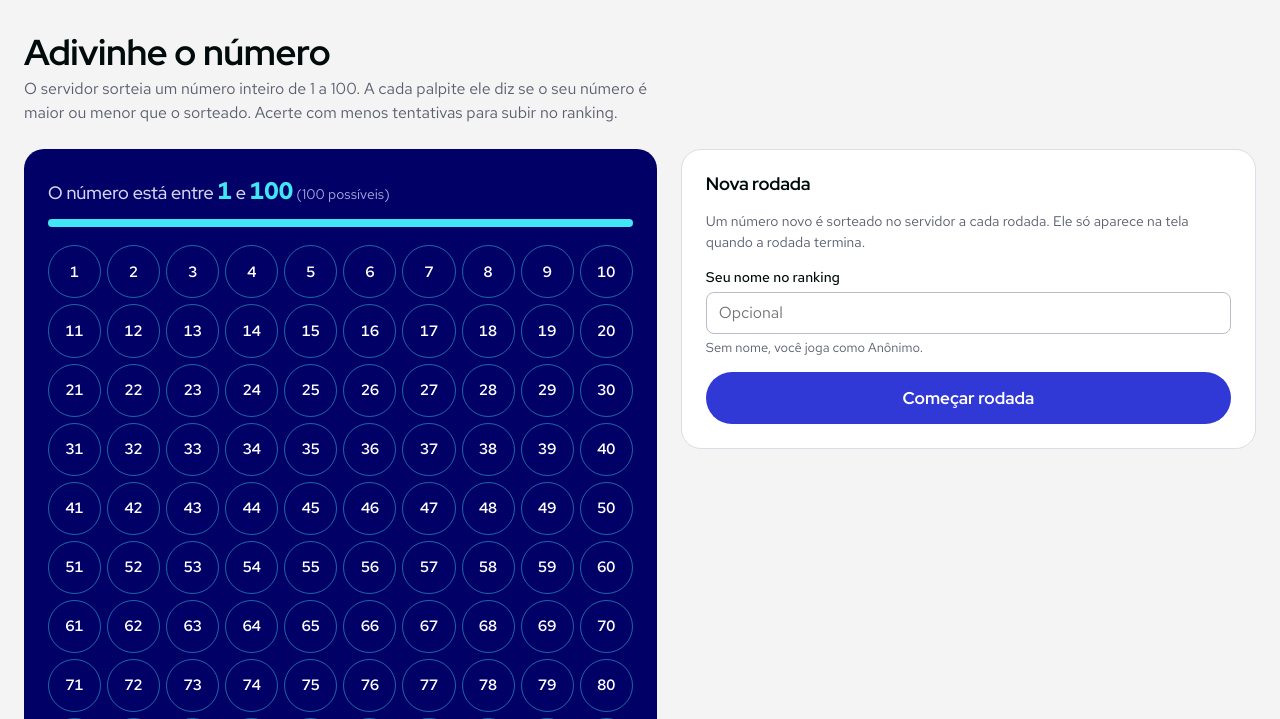
<Jogar /> (fluxo completo com a API mockada) › mostra a mensagem de regra do jogo vinda da API (422)
The width and height of the screenshot is (1280, 719).
Step 1. Click the button "Começar rodada" → (968, 398), box [706,372,1231,424]
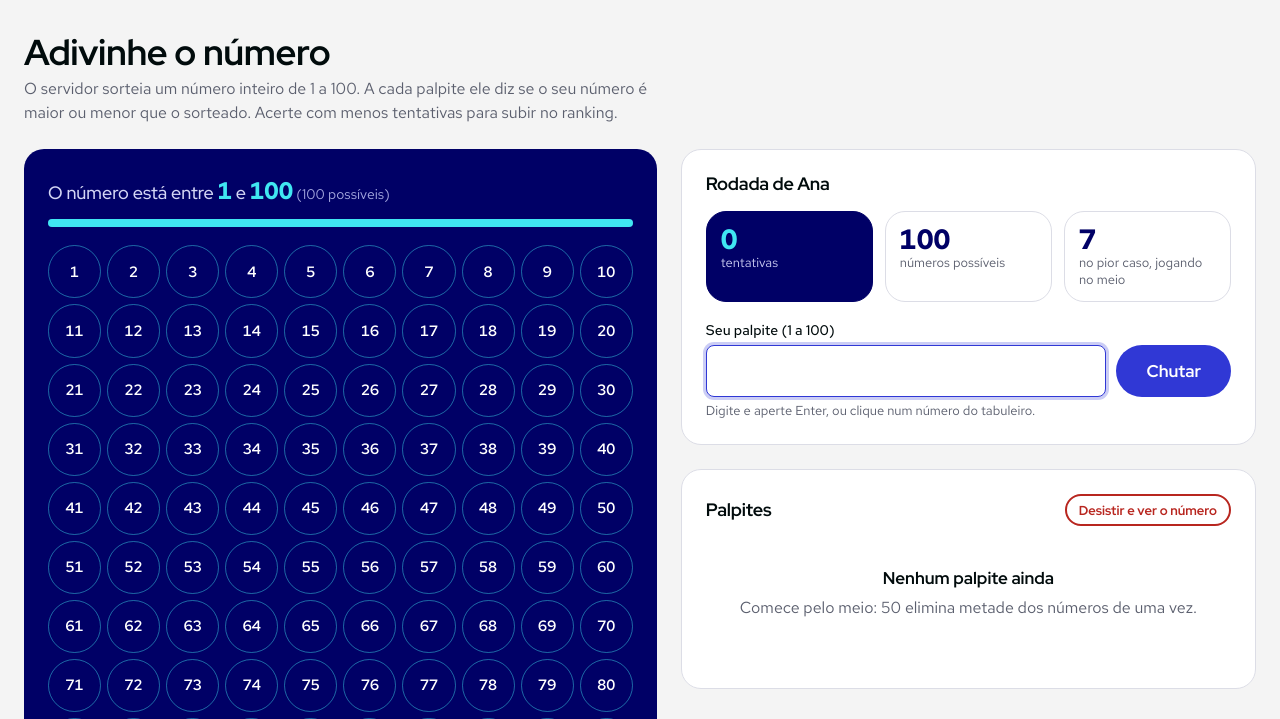
Step 2. Type "50" into the field labelled "Seu palpite (1 a 100)" → (906, 371), box [706,345,1106,397]
Then press Enter
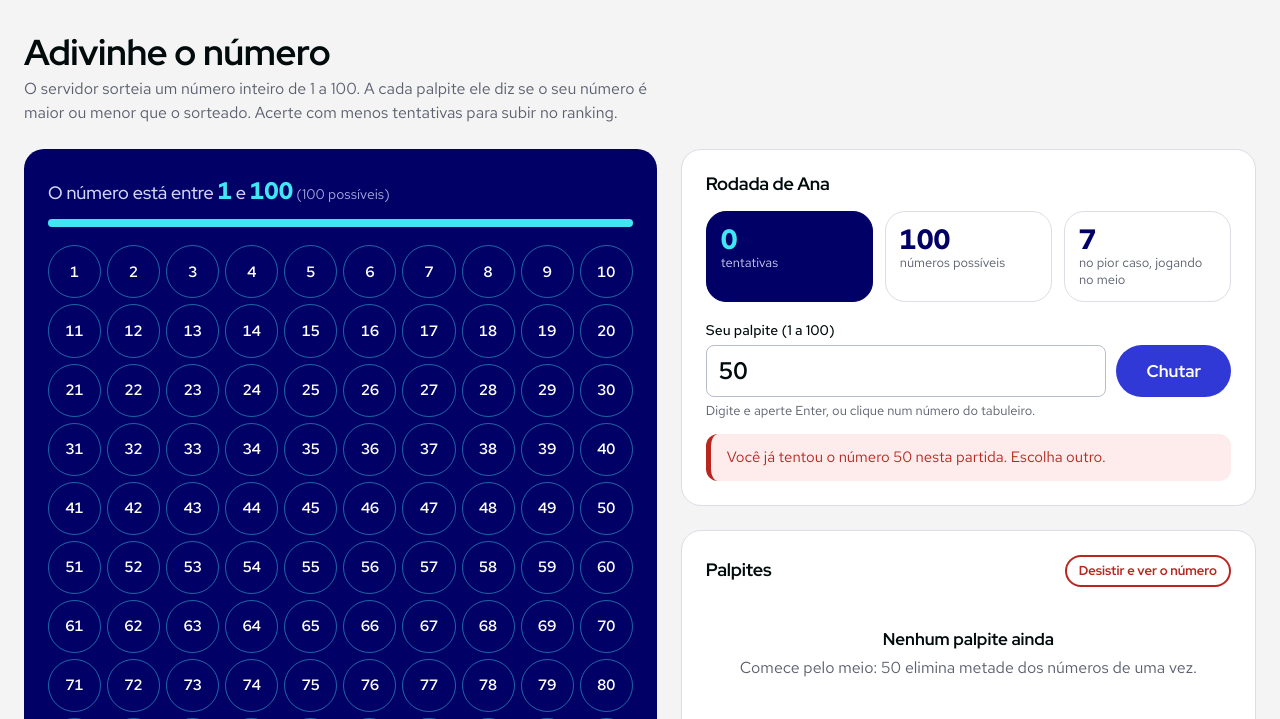
Expected: the message shows "Você já tentou o número 50", [727,447,1106,467]
